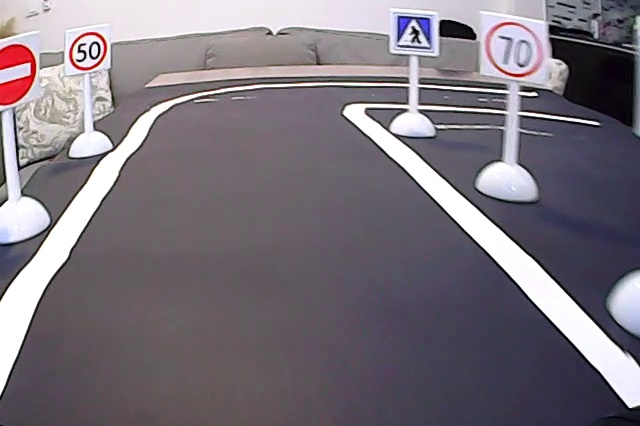do not enter: (1, 37, 38, 108)
pedestrian crossing: (392, 11, 437, 54)
speed limit 50: (66, 31, 110, 73)
speed limit 70: (483, 13, 545, 81)
